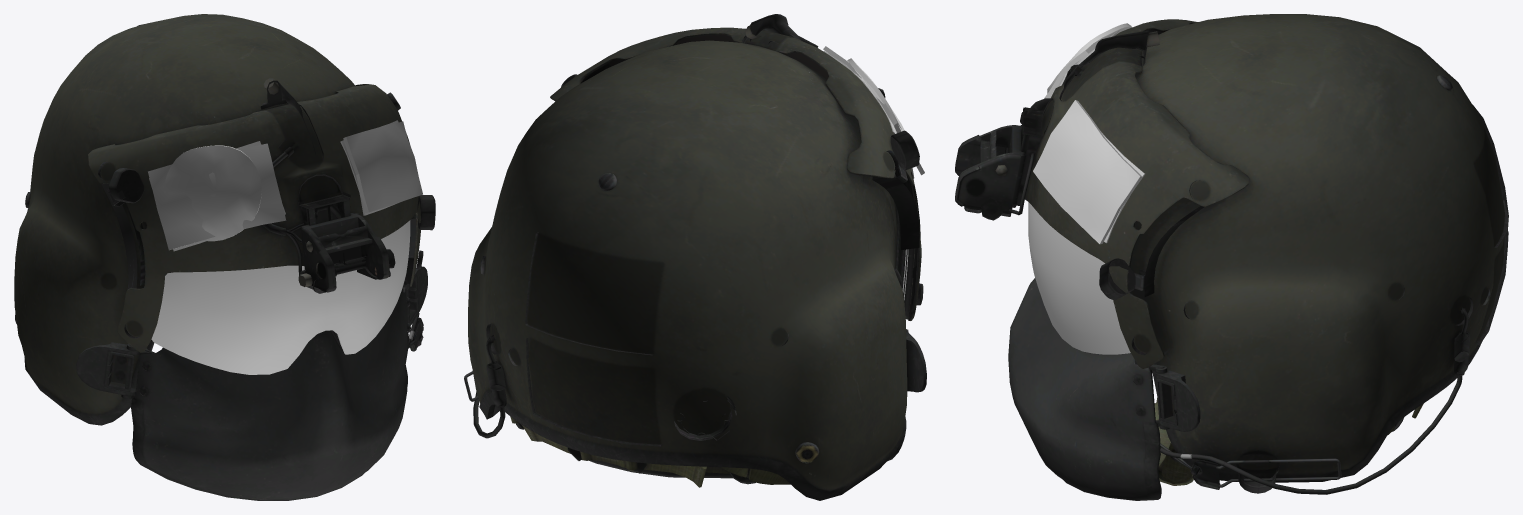
File: HGU56P_Mask_Visor.fbx
The picture shows the model from 3 angles, left to right: view 1: azimuth 30°, elevation 25°; view 2: azimuth 150°, elevation 25°; view 3: azimuth 270°, elevation 25°; orthographic projection. The views are drawn at different scales.
Parts seen in each view (by area): view 1: object_NNN1; view 2: object_NNN1; view 3: object_NNN1.
Boxes of the visible parts, x1,y1,x2,y2 form: object_NNN1: [14, 14, 435, 500]; object_NNN1: [464, 14, 926, 500]; object_NNN1: [955, 14, 1508, 500].
Size of the model in its own units: 0.2609 by 0.2709 by 0.3091.
